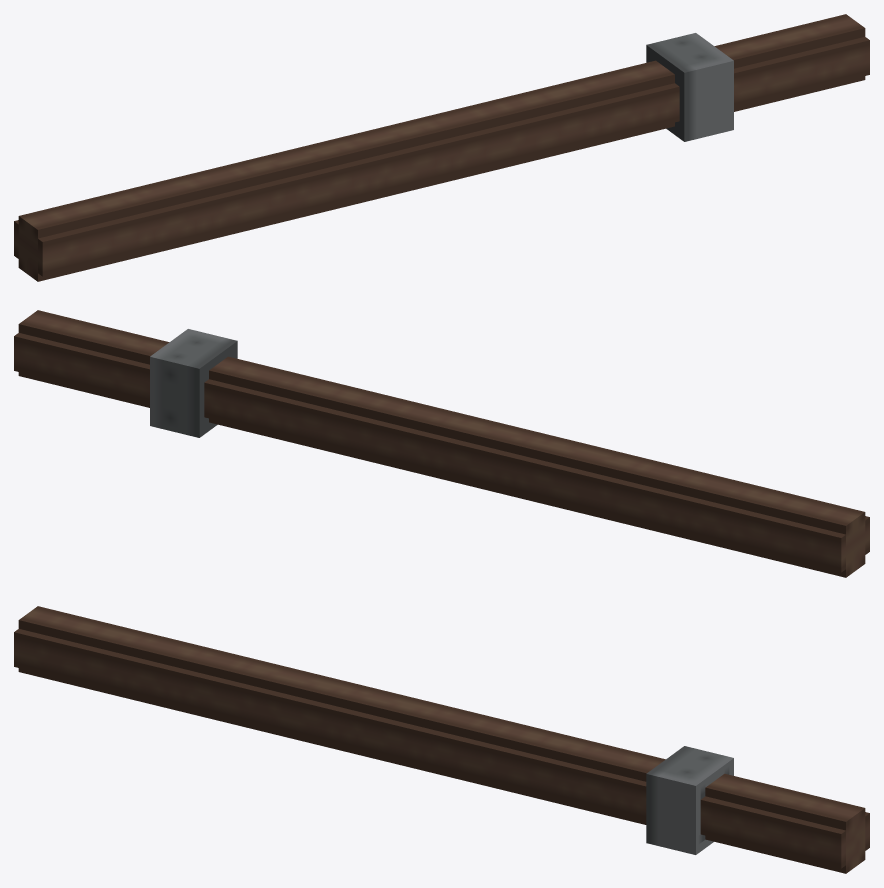
File: Support_BeamA-5_00.fbx
3 renders of one model, top to bottom at view 1: azimuth 30°, elevation 25°; view 2: azimuth 150°, elevation 25°; view 3: azimuth 330°, elevation 25°, orthographic.
Visible parts, largest first — view 1: Support_BeamA-5_00; view 2: Support_BeamA-5_00; view 3: Support_BeamA-5_00.
Part boxes in pixels (x1,y1,x2,y2): Support_BeamA-5_00: (14, 14, 869, 281); Support_BeamA-5_00: (14, 310, 869, 577); Support_BeamA-5_00: (14, 606, 869, 873).
Bounding box in the file's own units: 500 × 40 × 40.
